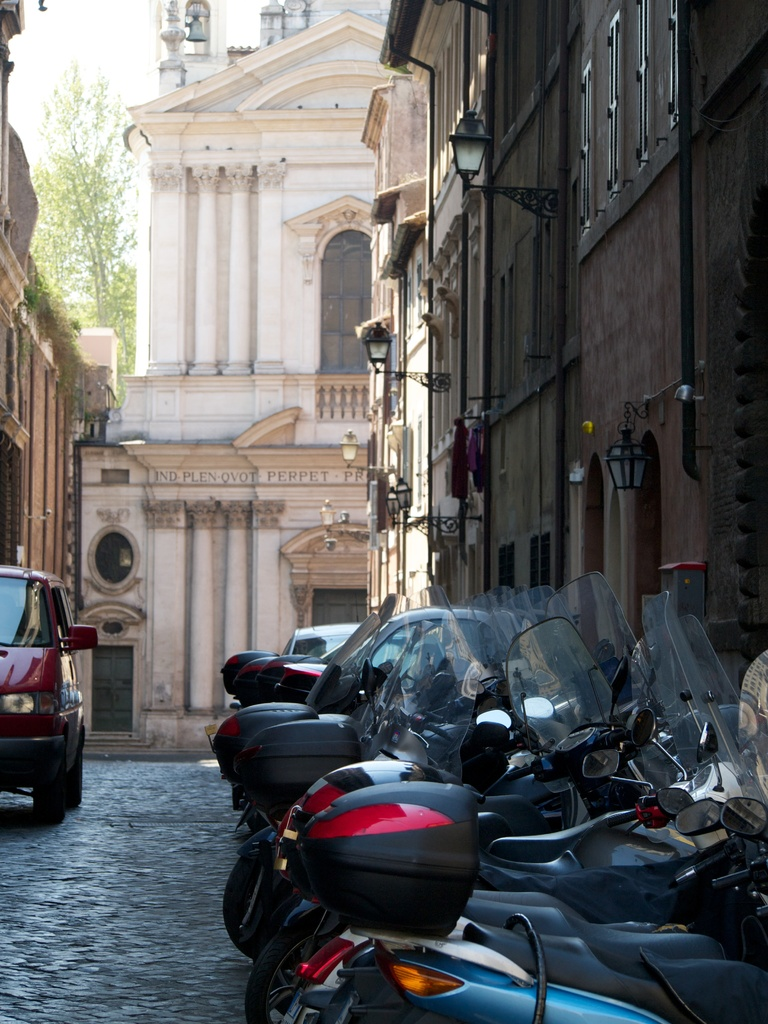Car: (311, 608, 582, 711), (0, 566, 101, 833), (282, 615, 361, 659)
